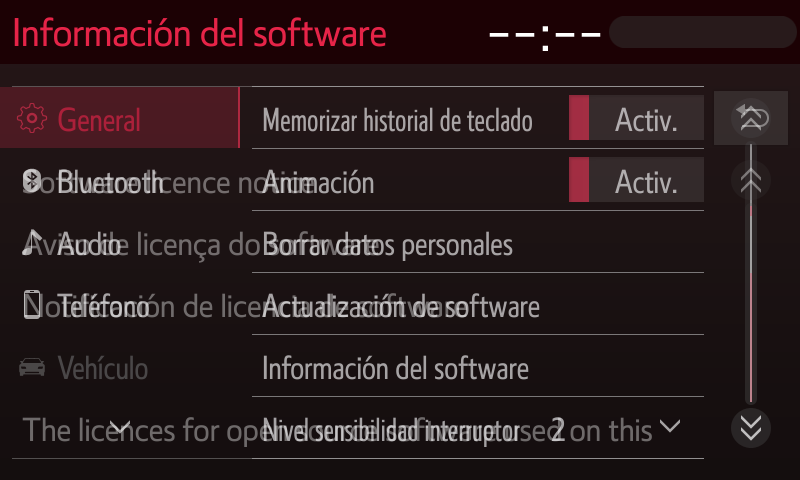untouchPart: (11, 9, 388, 52), (468, 13, 794, 55)
